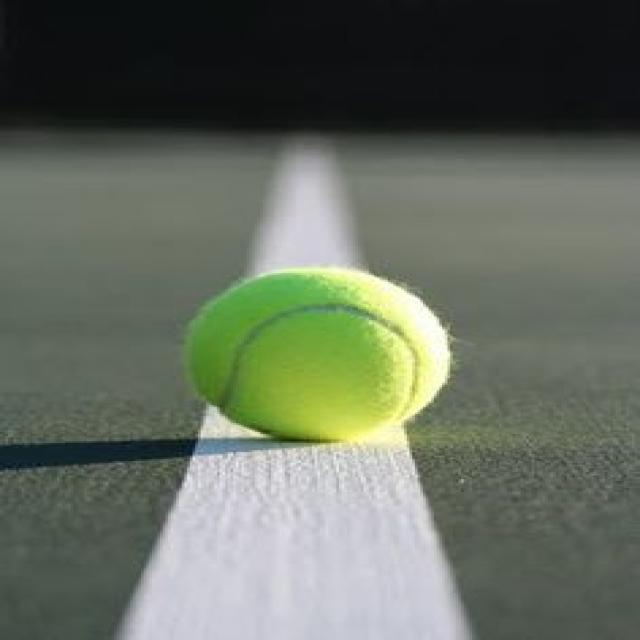tennis: (175, 266, 466, 450)
